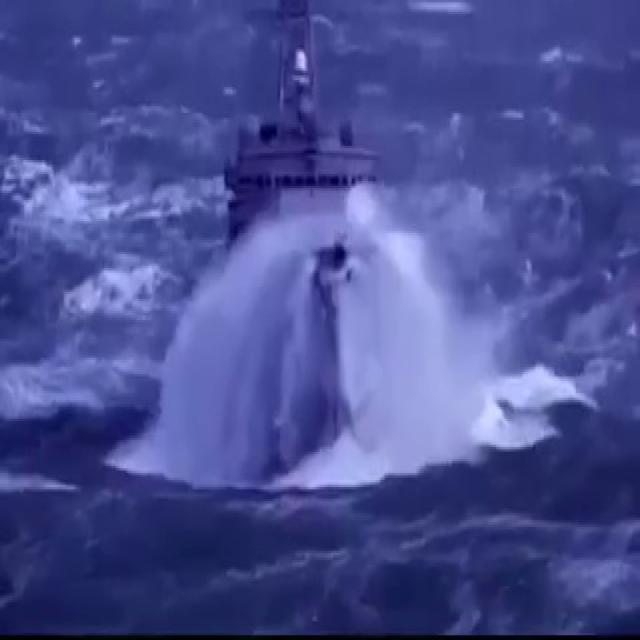houseboat: (215, 0, 385, 456)
